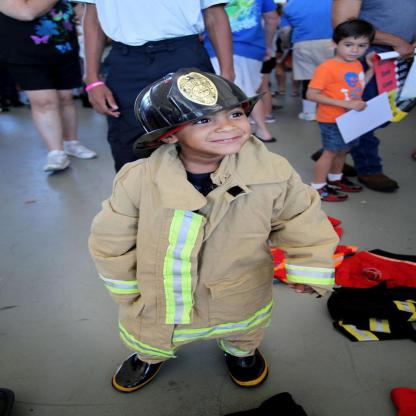face: (180, 99, 254, 156), (341, 35, 371, 61)
